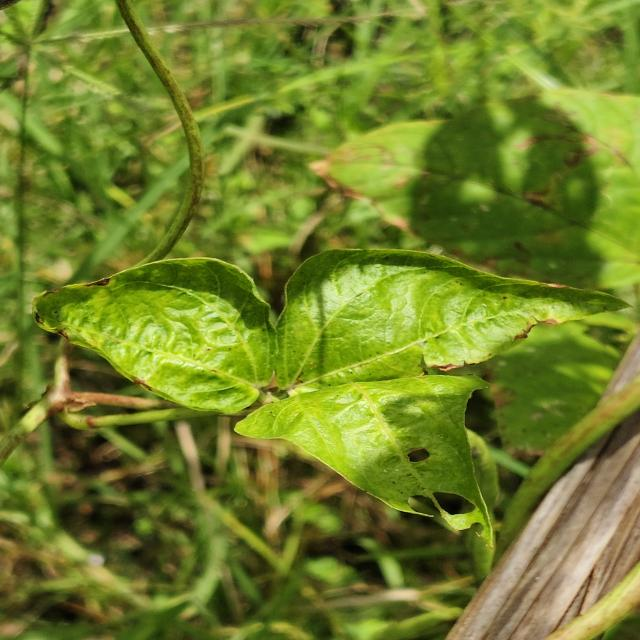sitaw-aphid-high: (33, 249, 605, 414), (240, 375, 494, 549)
